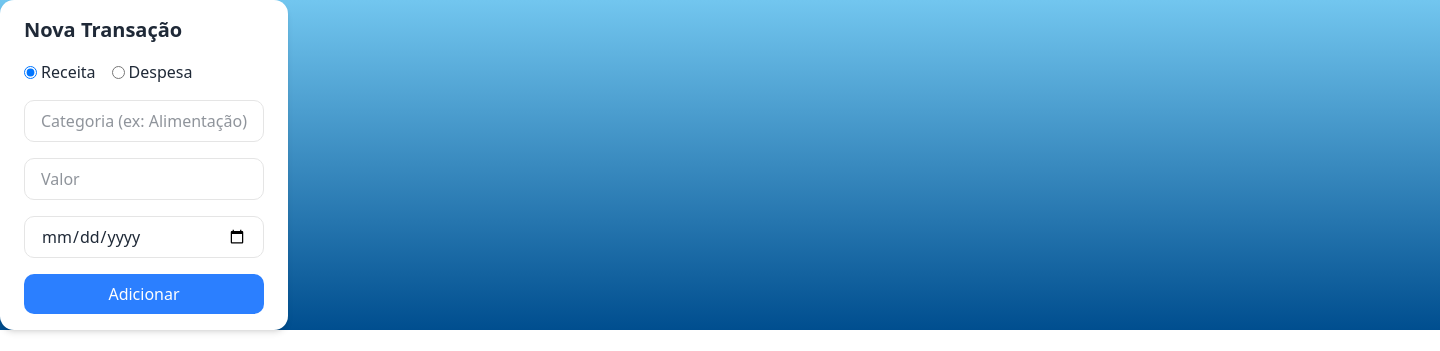
Test: TransactionForm › submete o formulário com novos dados e limpa os campos
This screenshot has width=1440, height=351.
Click the radio button labelled "Despesa" at [118, 72], box [112,66,125,78]
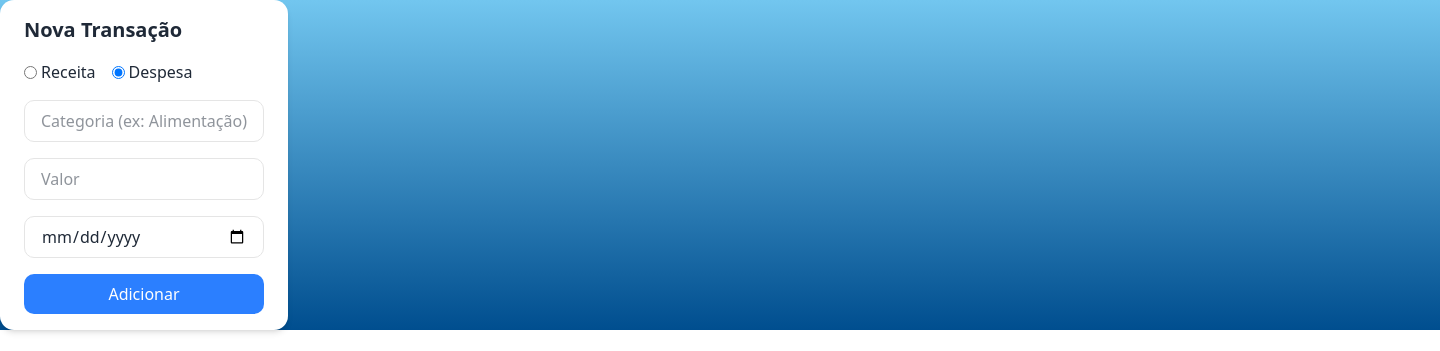
Type "Transporte" into the field with placeholder "Categoria (ex: Alimentação)" at [144, 121], box [24,100,264,142]
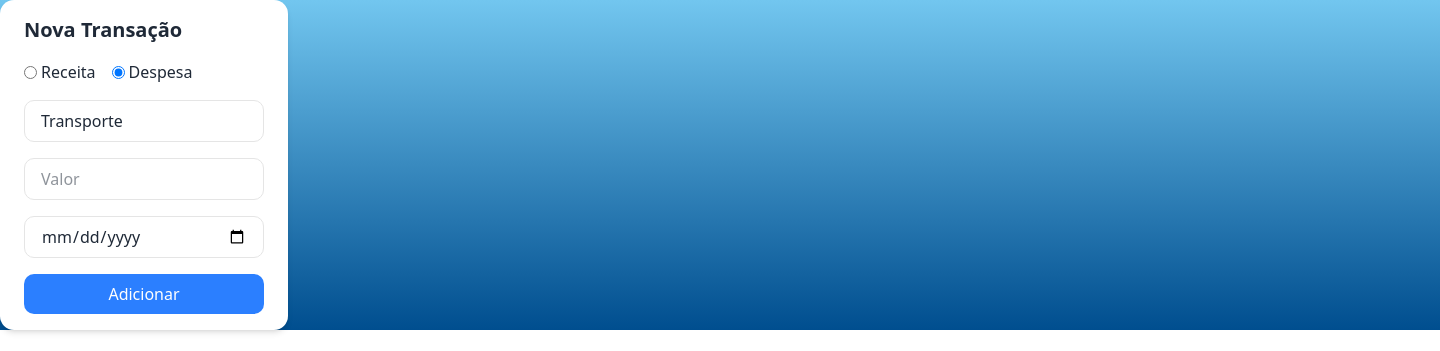
Type "50" into the number field with placeholder "Valor" at [144, 179], box [24,158,264,200]
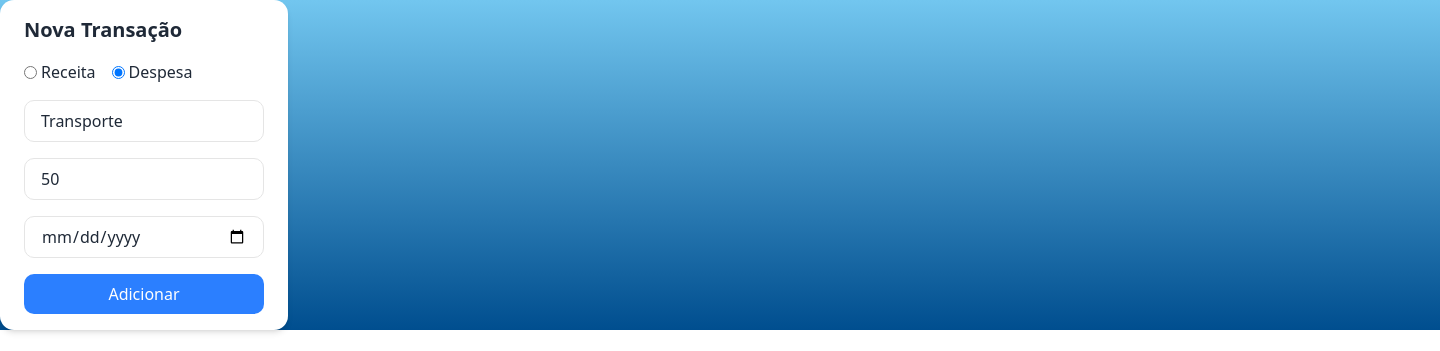
Type "2023-11-10" into the date field with placeholder "Data" at [144, 237], box [24,216,264,258]
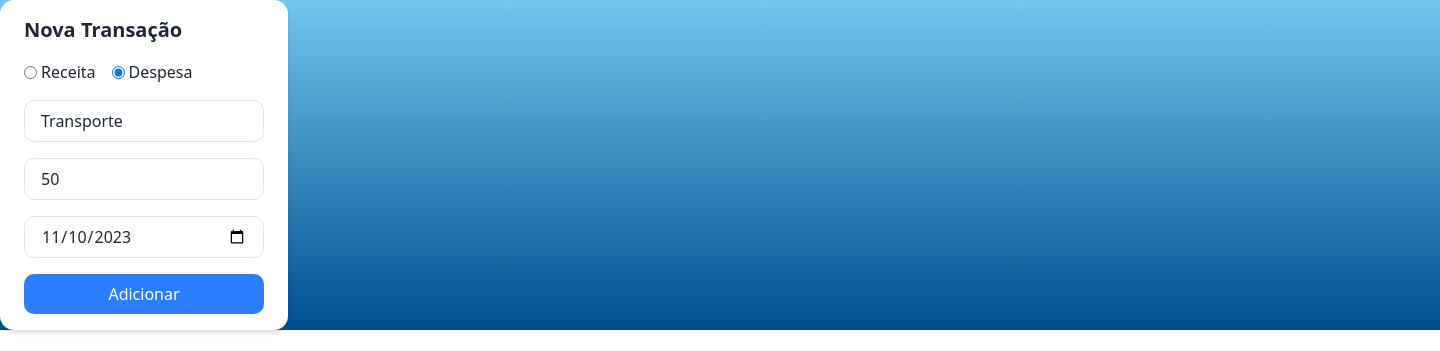
Click the button "Adicionar" at [144, 294], box [24,274,264,314]
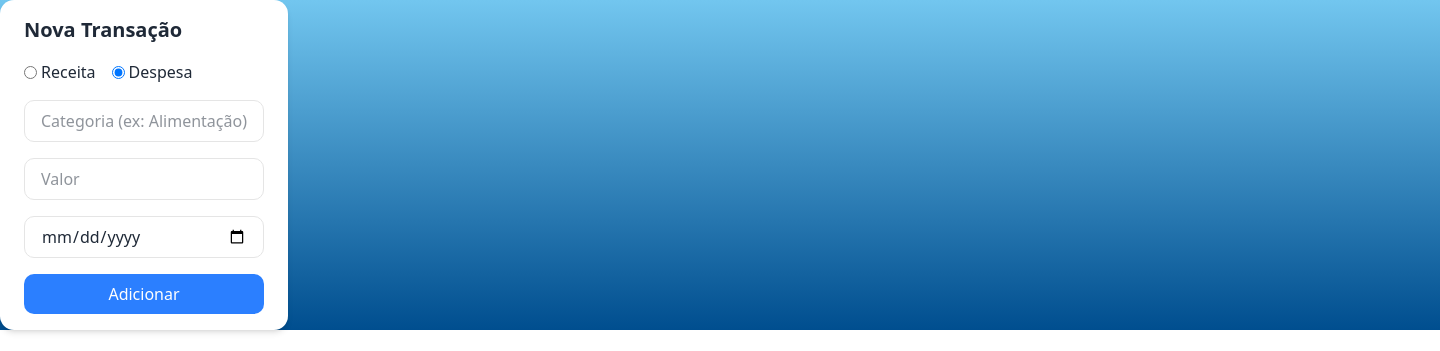
Check: the field with placeholder "Categoria (ex: Alimentação)" is empty, box [24,100,264,142]
Check: the number field with placeholder "Valor" is not empty, box [24,158,264,200]
